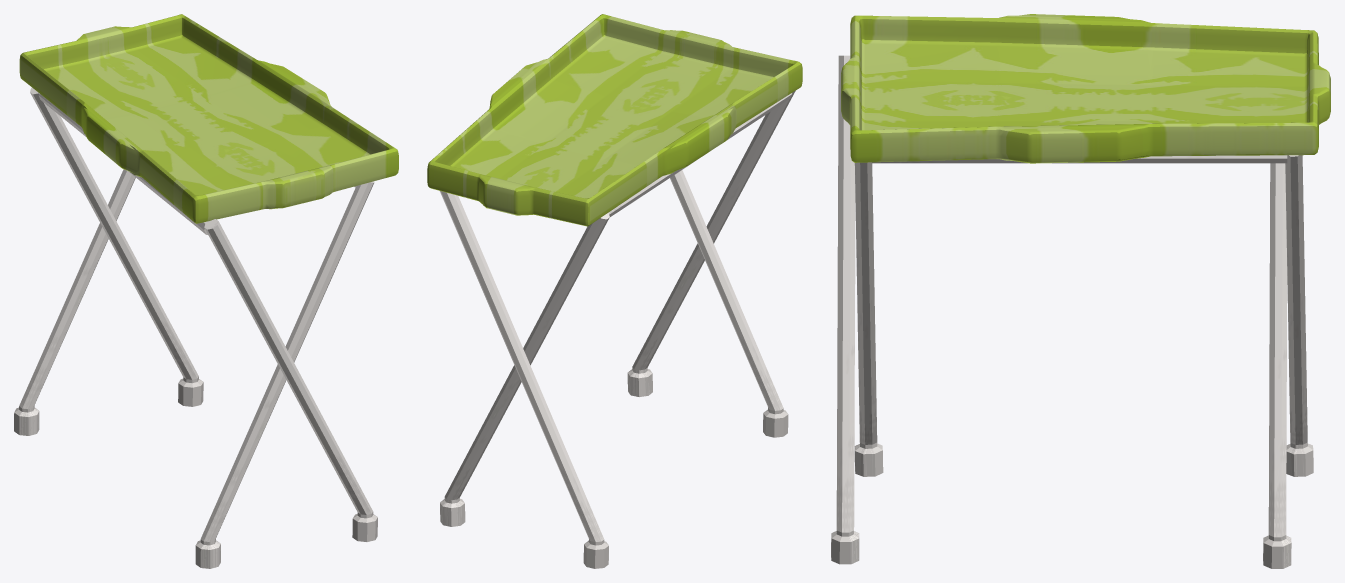
The model's file is dinner tray.fbx.
The picture shows the model from 3 angles, left to right: view 1: azimuth 30°, elevation 25°; view 2: azimuth 150°, elevation 25°; view 3: azimuth 270°, elevation 25°; orthographic projection. The views are drawn at different scales.
Parts seen in each view (by area): view 1: tray, pCylinder3, pCylinder6, pCylinder7, pCylinder4, leg_2; view 2: tray, pCylinder4, pCylinder7, pCylinder6, pCylinder3, leg_2; view 3: tray, pCylinder6, pCylinder7, pCylinder4, pCylinder3, leg_1.
Boxes of the visible parts, x1=… form: tray: x1=19, y1=14, x2=398, y2=223; pCylinder3: x1=195, y1=181, x2=374, y2=568; pCylinder6: x1=204, y1=219, x2=377, y2=541; pCylinder7: x1=30, y1=87, x2=203, y2=406; pCylinder4: x1=14, y1=169, x2=135, y2=435; leg_2: x1=38, y1=94, x2=207, y2=234; tray: x1=427, y1=14, x2=802, y2=226; pCylinder4: x1=440, y1=191, x2=608, y2=568; pCylinder7: x1=440, y1=213, x2=609, y2=526; pCylinder6: x1=627, y1=90, x2=795, y2=396; pCylinder3: x1=670, y1=170, x2=788, y2=437; leg_2: x1=608, y1=93, x2=791, y2=216; tray: x1=841, y1=14, x2=1330, y2=163; pCylinder6: x1=831, y1=55, x2=859, y2=564; pCylinder7: x1=1263, y1=163, x2=1291, y2=568; pCylinder4: x1=1285, y1=155, x2=1313, y2=476; pCylinder3: x1=854, y1=162, x2=883, y2=476; leg_1: x1=872, y1=155, x2=1287, y2=163.
Bounding box in the file's own units: 6.08 × 10.58 × 10.67.
